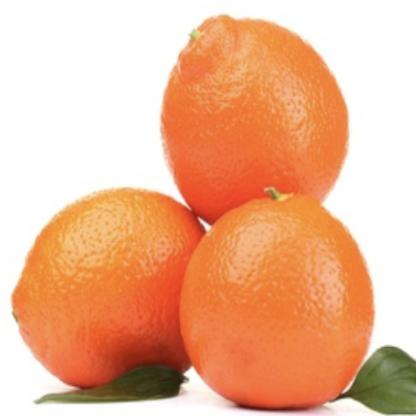fresh: (12, 17, 373, 412)
